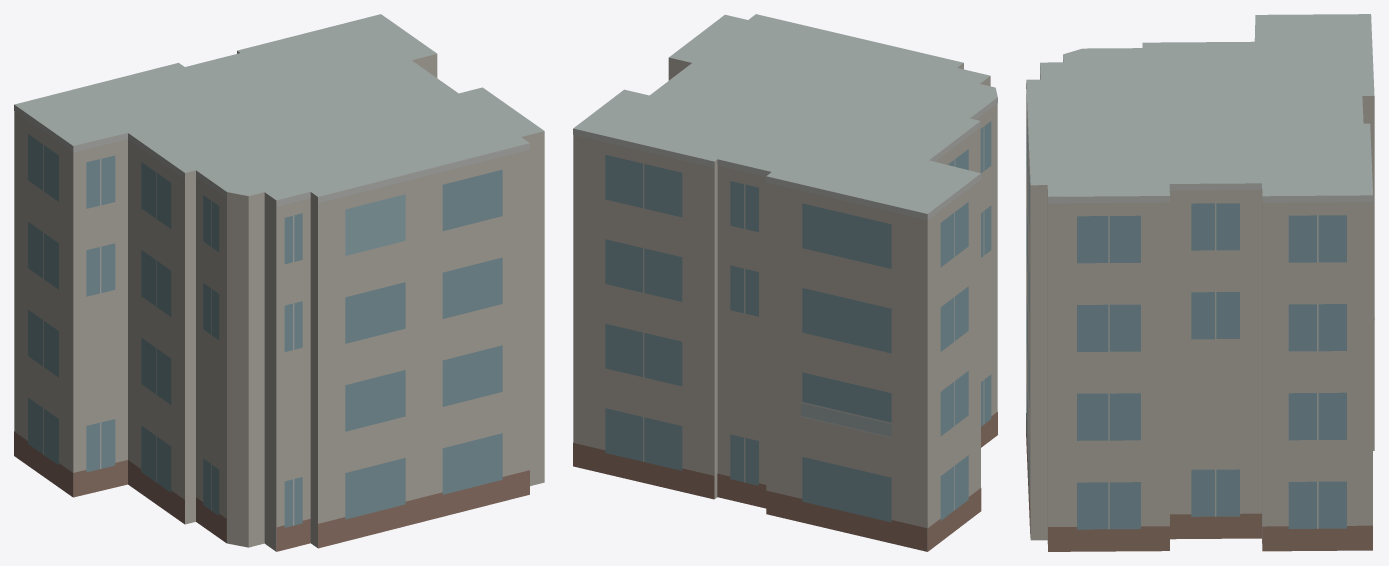
The model's file is survey-upis-32872062.glb.
3 renders of one model, left to right at view 1: azimuth 30°, elevation 25°; view 2: azimuth 150°, elevation 25°; view 3: azimuth 270°, elevation 25°, orthographic. The views are drawn at different scales.
Parts seen in each view (by area): view 1: survey-upis-32872062.tmp; view 2: survey-upis-32872062.tmp; view 3: survey-upis-32872062.tmp.
Boxes of the visible parts, box(x1,y1,x2,y2) form: survey-upis-32872062.tmp: box(14, 14, 544, 551); survey-upis-32872062.tmp: box(573, 14, 997, 551); survey-upis-32872062.tmp: box(1026, 14, 1374, 551).
Size of the model in its own units: 14.69 by 13.3 by 11.84.
